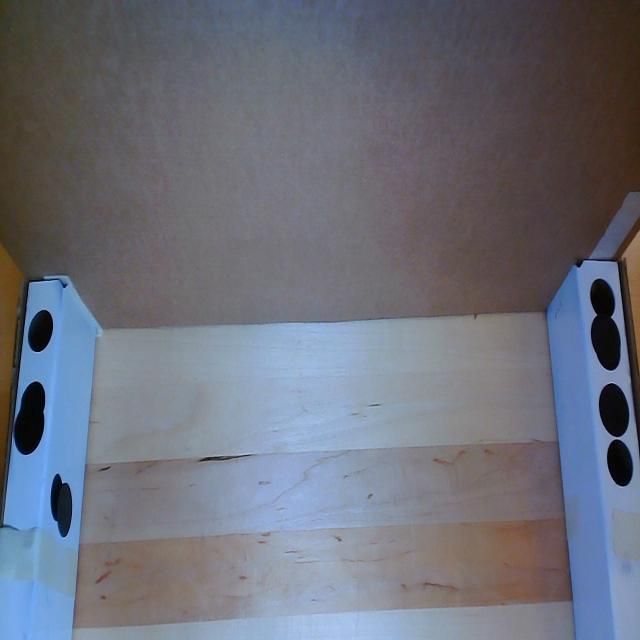Hole: (606, 436, 634, 489), (27, 307, 54, 355), (588, 274, 616, 320), (20, 378, 47, 425), (597, 334, 621, 372), (50, 473, 65, 522)
Sticker: (597, 382, 631, 437), (15, 404, 45, 457), (590, 313, 622, 359), (57, 482, 74, 540)
